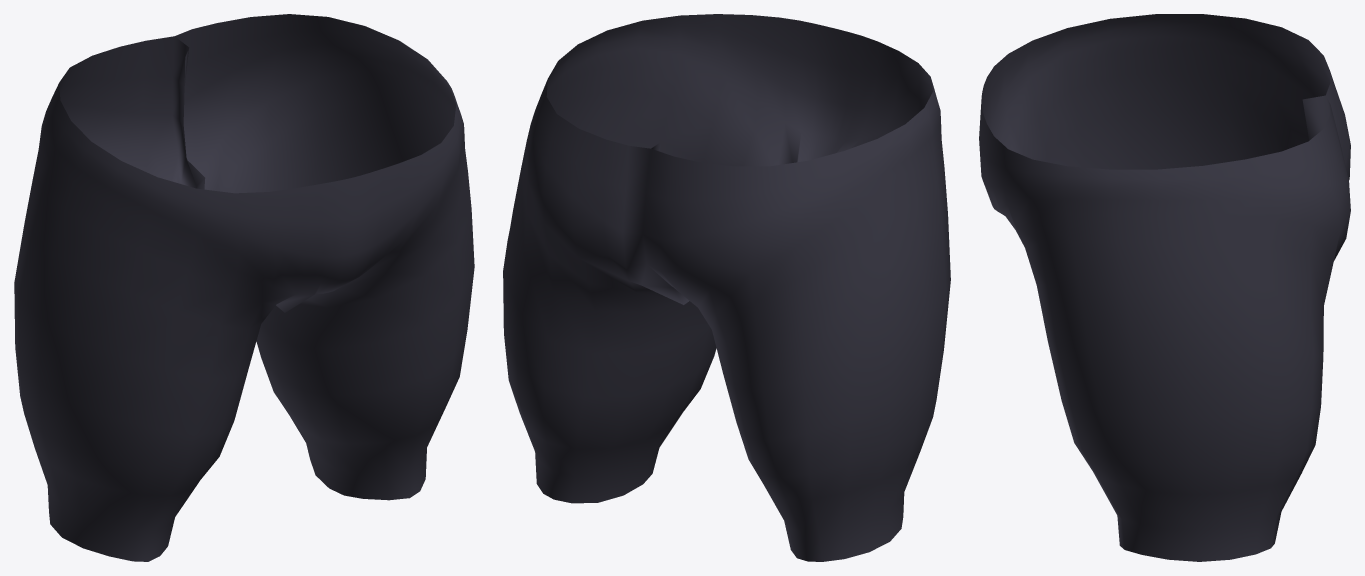
The model's file is LeggingsNew.fbx.
3 renders of one model, left to right at view 1: azimuth 30°, elevation 25°; view 2: azimuth 150°, elevation 25°; view 3: azimuth 270°, elevation 25°, orthographic. The views are drawn at different scales.
Visible parts, largest first — view 1: Leggings2.011; view 2: Leggings2.011; view 3: Leggings2.011.
Boxes of the visible parts, x1,y1,x2,y2 form: Leggings2.011: (14,14,474,561); Leggings2.011: (503,14,950,561); Leggings2.011: (979,14,1350,561).
Size of the model in its own units: 481 by 476 by 400.
